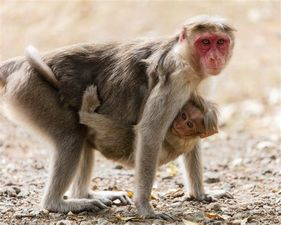monkey: (4, 12, 242, 215), (49, 92, 264, 174)
